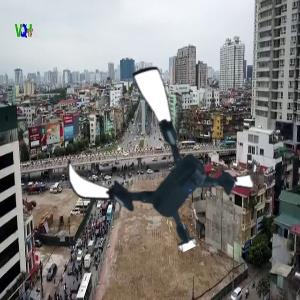drone: (67, 70, 252, 255)
